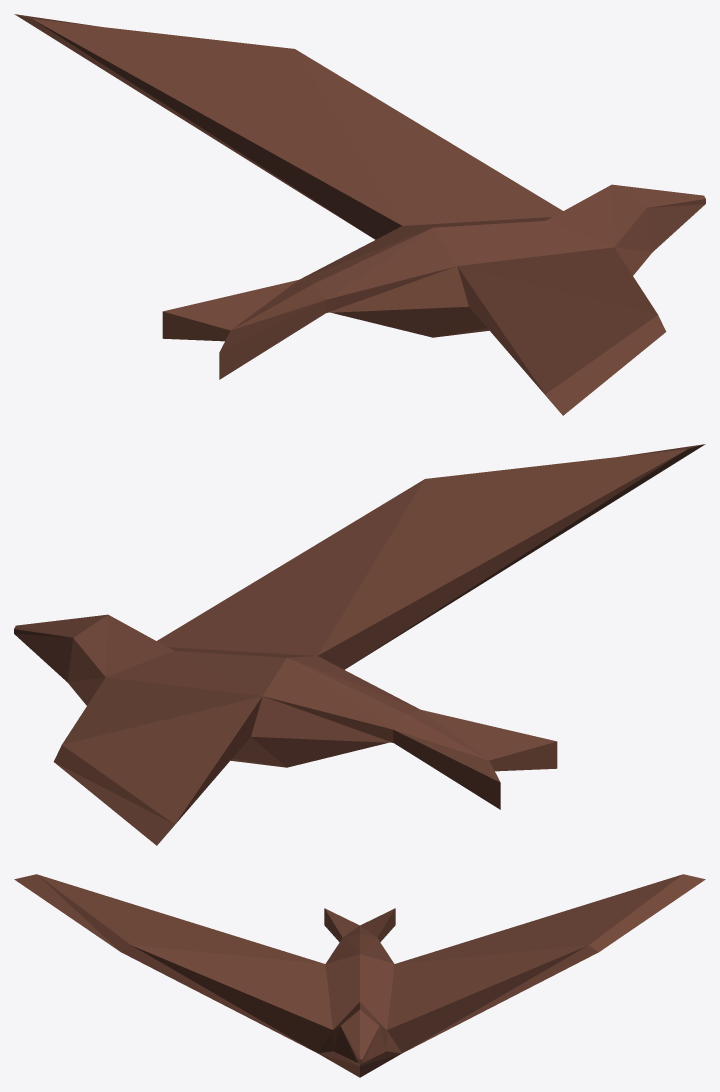
Rendered from hawk-simple.dae.
3 renders of one model, top to bottom at view 1: azimuth 30°, elevation 25°; view 2: azimuth 150°, elevation 25°; view 3: azimuth 270°, elevation 25°, orthographic. The views are drawn at different scales.
Parts seen in each view (by area): view 1: Cube; view 2: Cube; view 3: Cube.
Boxes of the visible parts, x1,y1,x2,y2 form: Cube: (14, 14, 705, 415); Cube: (14, 444, 705, 845); Cube: (14, 874, 705, 1077).
Bounding box in the file's own units: 0.0719 × 0.1333 × 0.0245.
